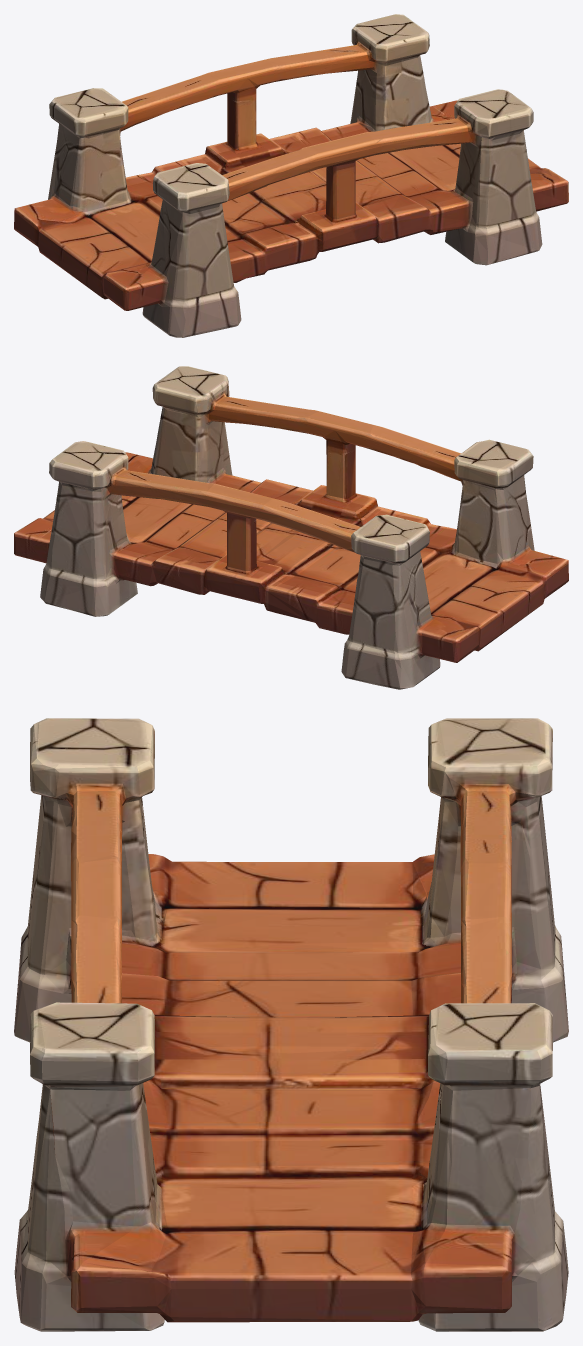
Rendered from bridge_stone_rustic_a_lod0.glb.
3 views of the same model, one above another, from view 1: azimuth 30°, elevation 25°; view 2: azimuth 150°, elevation 25°; view 3: azimuth 270°, elevation 25° (orthographic). The views are drawn at different scales.
Visible parts, largest first — view 1: bridge_stone_rustic_a_lod0; view 2: bridge_stone_rustic_a_lod0; view 3: bridge_stone_rustic_a_lod0.
Boxes of the visible parts, left/top/right/bottom form: bridge_stone_rustic_a_lod0: left=14, top=14, right=568, bottom=337; bridge_stone_rustic_a_lod0: left=14, top=366, right=568, bottom=689; bridge_stone_rustic_a_lod0: left=14, top=718, right=568, bottom=1331.
Size of the model in its own units: 3.5 by 1.08 by 1.94.
Materials: 1 (1 with a texture image).
